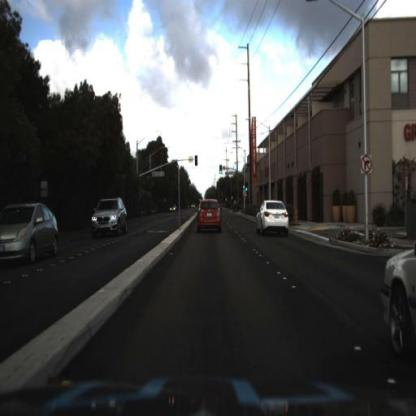car: (1, 203, 63, 270), (189, 189, 232, 238), (90, 194, 131, 245), (92, 194, 130, 240), (255, 193, 291, 241)
trafficLight-Green: (216, 161, 226, 181), (245, 186, 249, 198), (243, 183, 247, 194)
